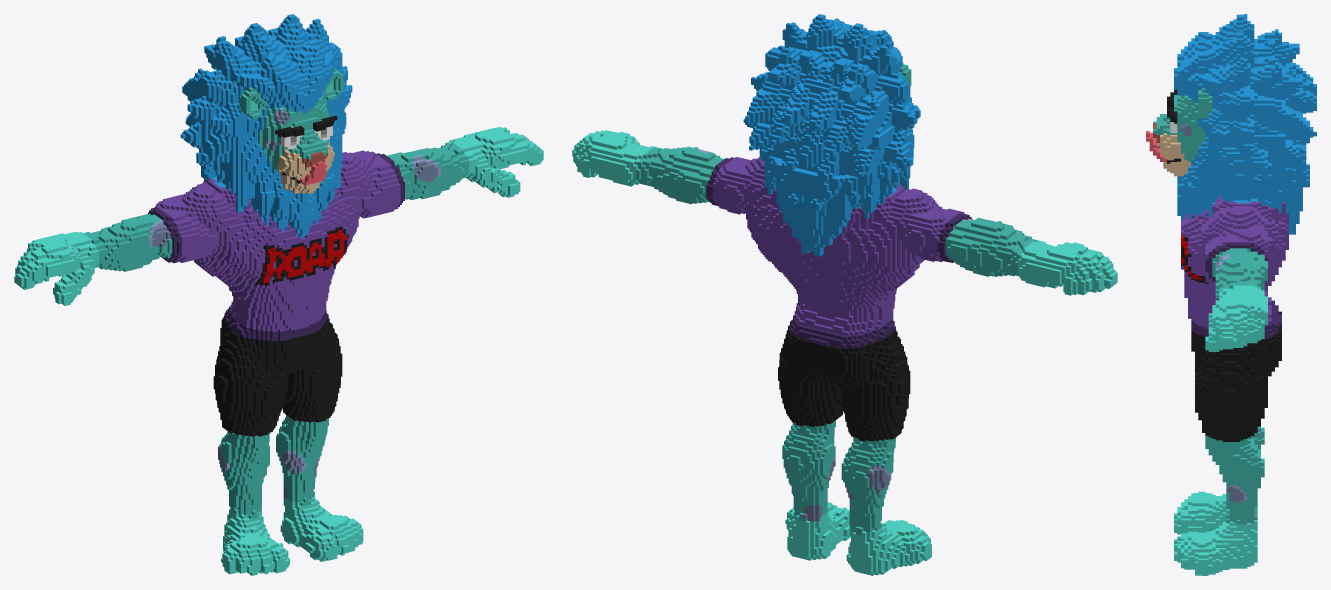
The model's file is 423-BxxEjPas.glb.
3 views of the same model, side by side, from view 1: azimuth 30°, elevation 25°; view 2: azimuth 150°, elevation 25°; view 3: azimuth 270°, elevation 25° (orthographic). The views are drawn at different scales.
Parts seen in each view (by area): view 1: licking_nose; view 2: licking_nose; view 3: licking_nose.
Part boxes in pixels (bbox=[...]): licking_nose: bbox=[14, 14, 543, 575]; licking_nose: bbox=[572, 14, 1117, 575]; licking_nose: bbox=[1146, 14, 1316, 575].
Size of the model in its own units: 17.2 by 16.5 by 4.9.
Materials: 5 (5 with a texture image).
